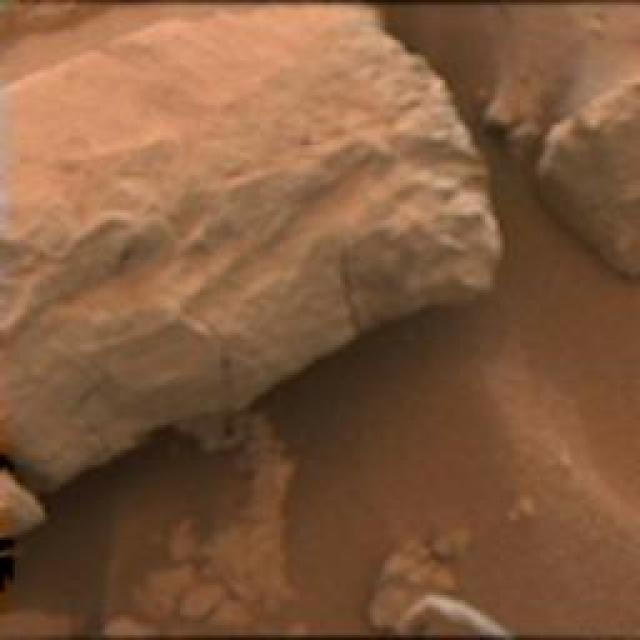rock: (0, 1, 502, 494), (542, 72, 640, 272), (393, 597, 522, 640), (0, 467, 52, 547)
